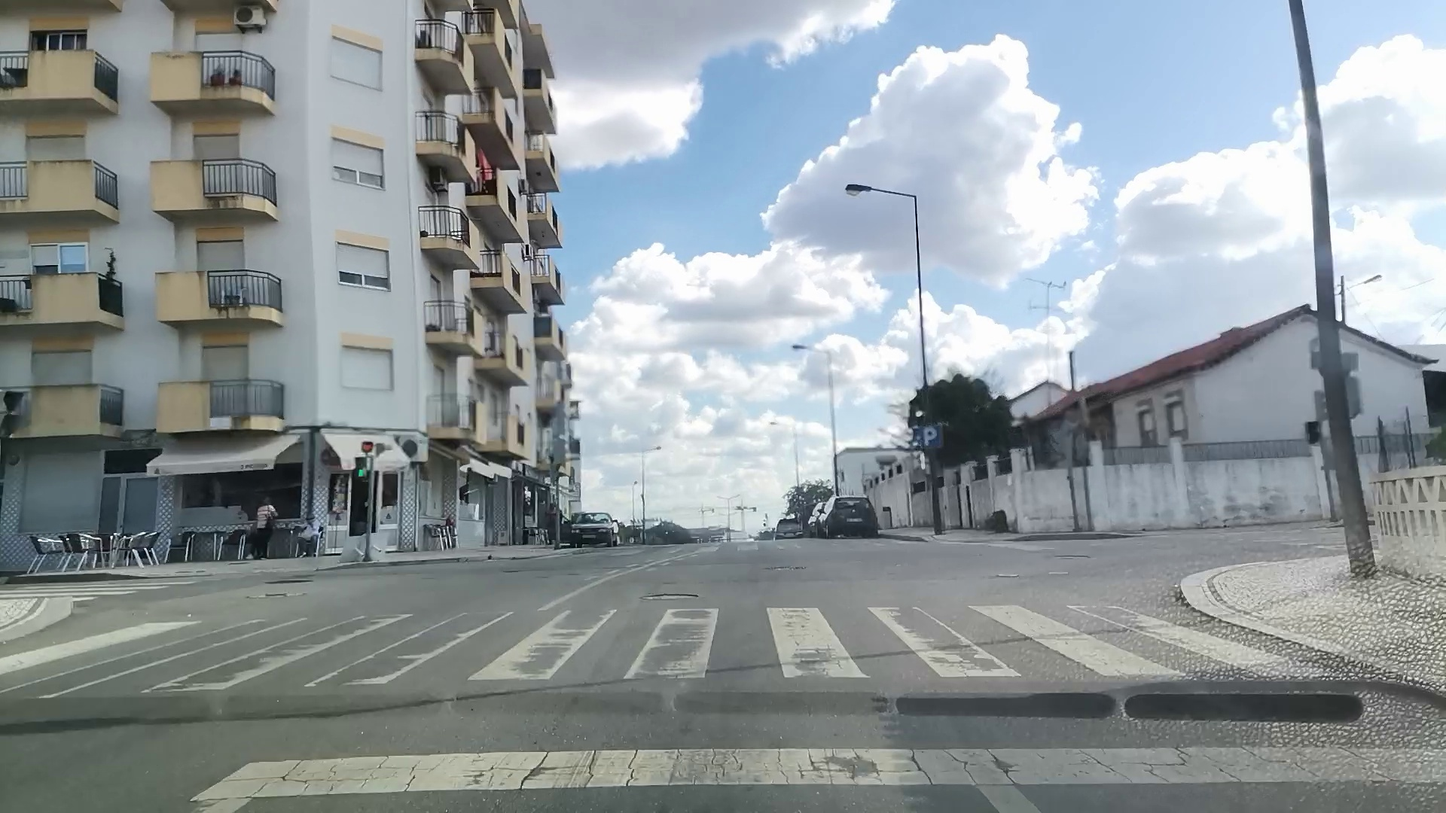Stairs: (0, 603, 1343, 700)
